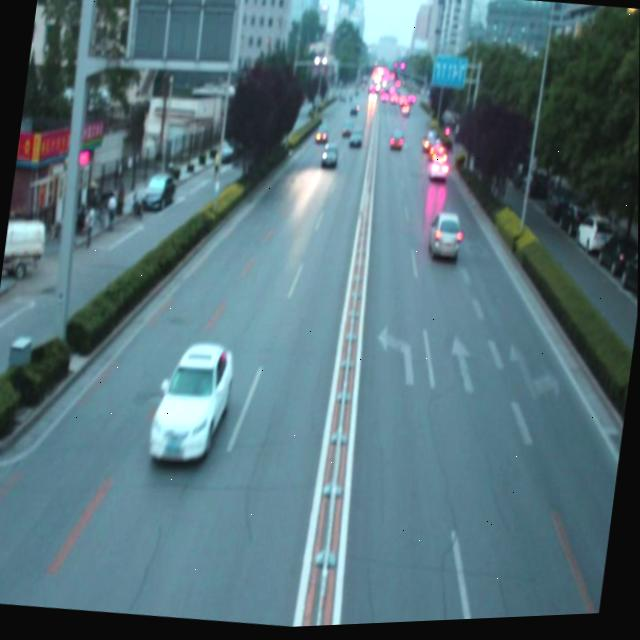car: (146, 336, 236, 471), (426, 211, 464, 267)
